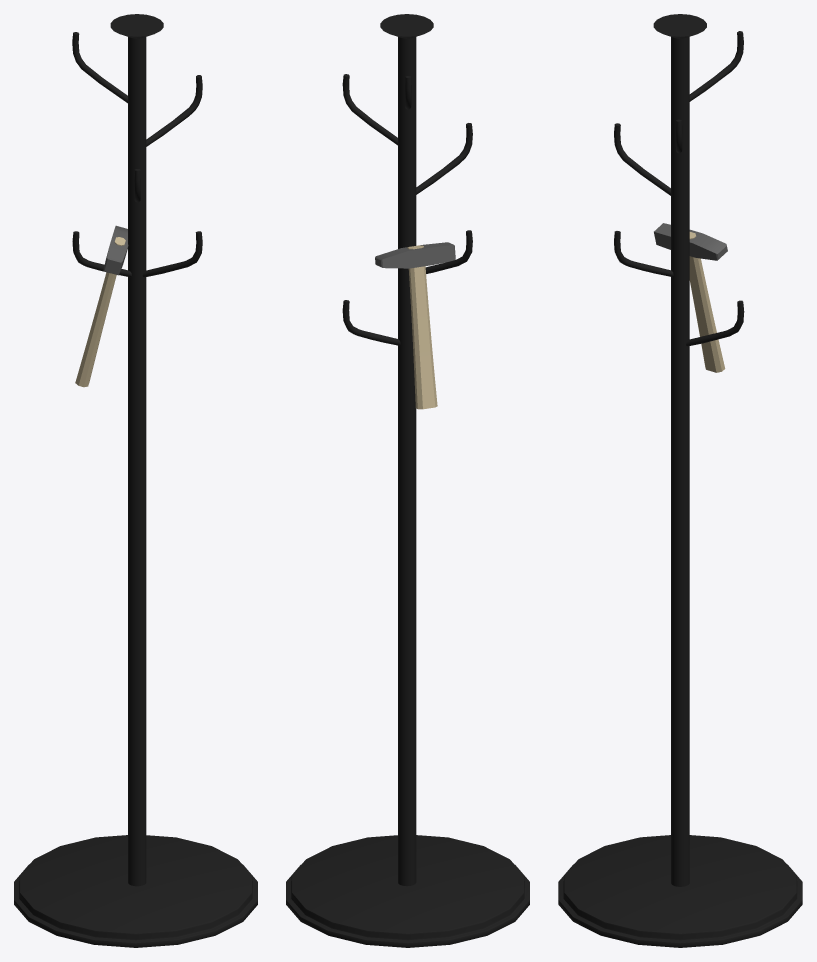
File: CabideeMartelo.fbx
The picture shows the model from 3 angles, left to right: view 1: azimuth 30°, elevation 25°; view 2: azimuth 150°, elevation 25°; view 3: azimuth 270°, elevation 25°; orthographic projection.
Visible parts, largest first — view 1: Cabide, Martelo; view 2: Cabide, Martelo; view 3: Cabide, Martelo.
Boxes of the visible parts, bbox=[...] form: Cabide: bbox=[14, 14, 257, 947]; Martelo: bbox=[75, 225, 128, 387]; Cabide: bbox=[286, 14, 529, 947]; Martelo: bbox=[375, 242, 455, 409]; Cabide: bbox=[558, 14, 802, 947]; Martelo: bbox=[654, 223, 727, 372].
Bounding box in the file's own units: 55.57 × 215 × 54.73.
